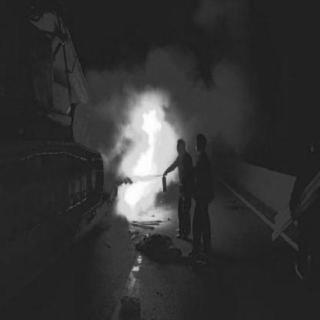Fire: (111, 101, 174, 209)
